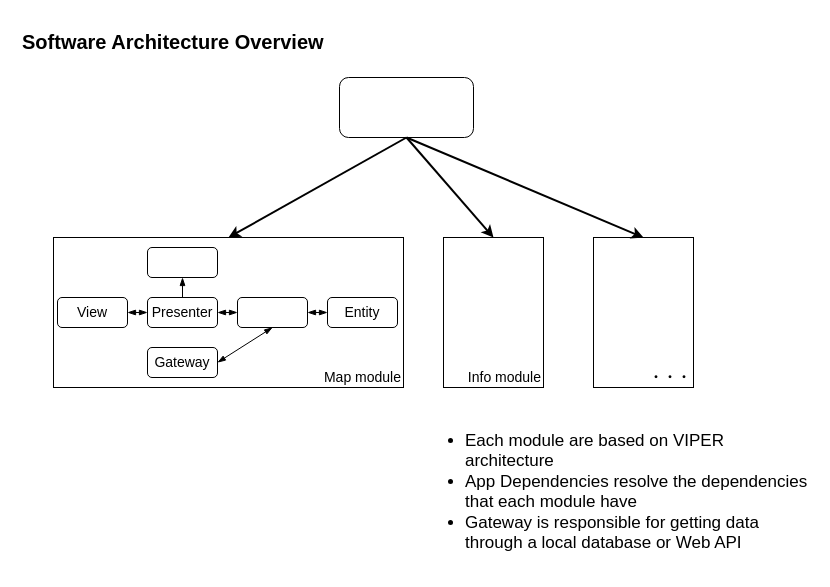
Some shapes in this 830 by 587 pixel diagram are drawn without their labels. The shapes that lost their labels are listed below. From the top down, each one's centre as x and y in pixels, then its label:
the point at 406,107: App Dependencies
the point at 182,262: Router
the point at 272,312: Interactor
